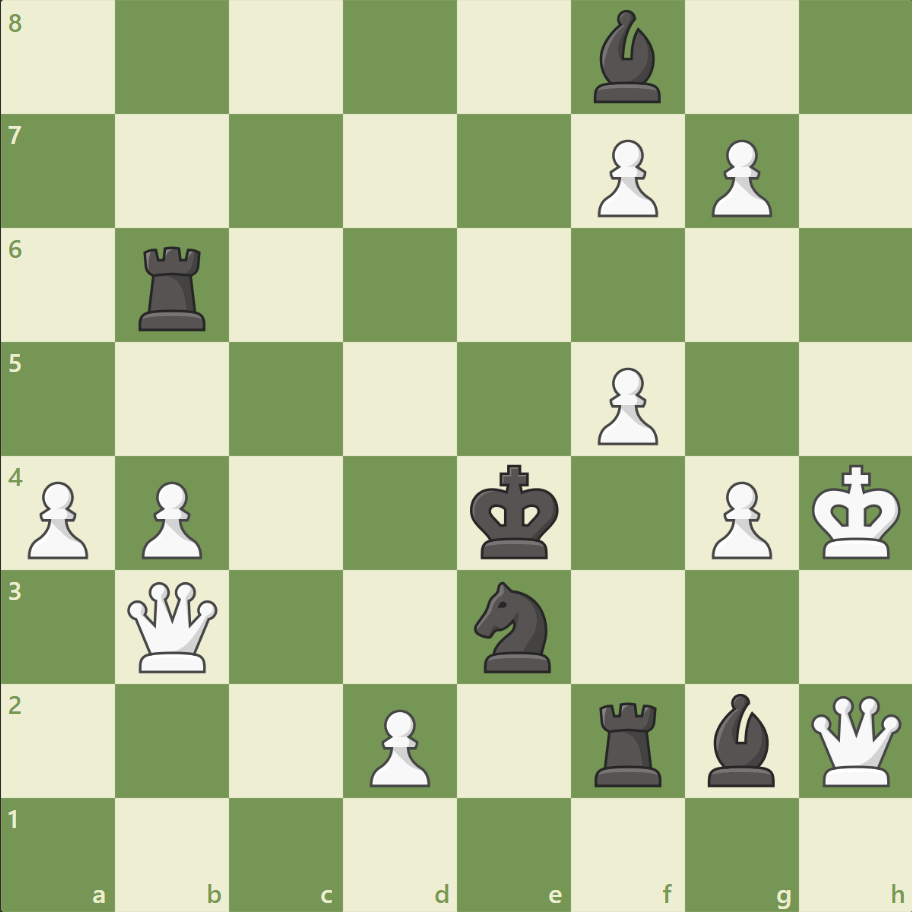K: (806, 458, 906, 566)
P: (701, 132, 776, 223), (20, 473, 95, 564), (133, 473, 208, 564), (701, 473, 776, 564), (588, 132, 662, 223), (588, 359, 662, 450), (361, 700, 435, 791)
Q: (124, 576, 223, 676), (805, 690, 904, 789)
b: (585, 6, 669, 109), (698, 687, 782, 790)
k: (465, 458, 565, 566)
n: (465, 575, 562, 677)
r: (587, 693, 670, 790), (133, 239, 215, 336)
